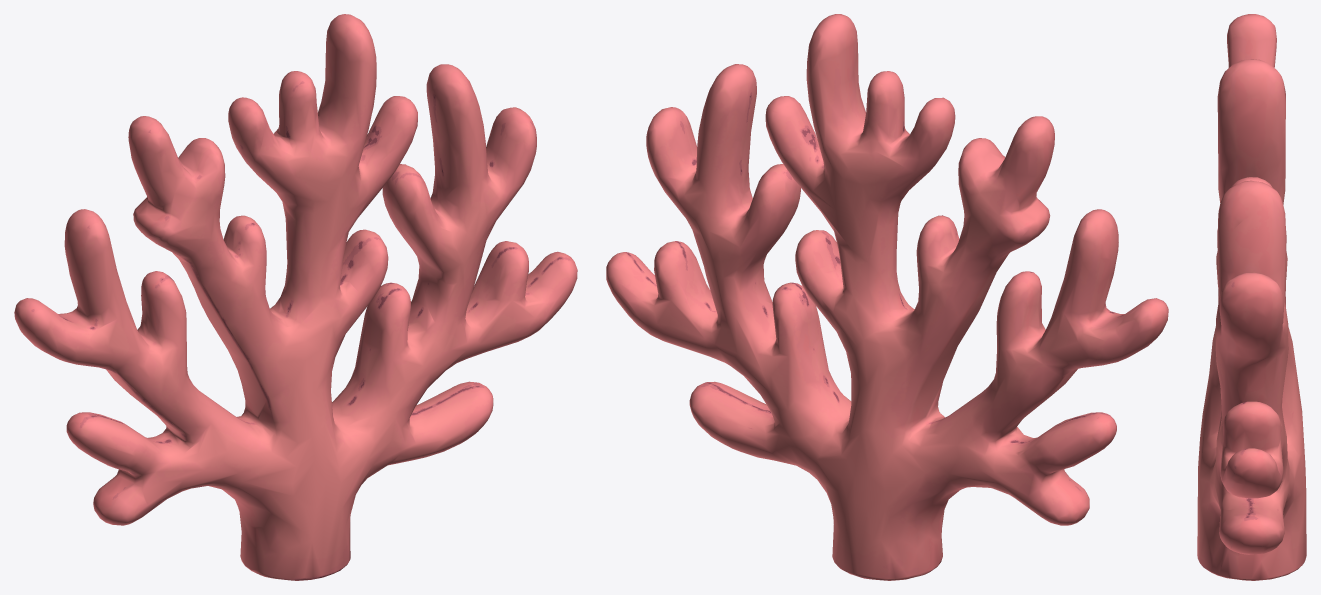
Rendered from coral.glb.
3 renders of one model, left to right at view 1: azimuth 30°, elevation 25°; view 2: azimuth 150°, elevation 25°; view 3: azimuth 270°, elevation 25°, orthographic.
Parts seen in each view (by area): view 1: Mesh_0; view 2: Mesh_0; view 3: Mesh_0.
Part boxes in pixels (x1,y1,x2,y2): Mesh_0: (14, 14, 577, 580); Mesh_0: (606, 14, 1168, 580); Mesh_0: (1197, 14, 1306, 580).
Bounding box in the file's own units: 1.9 × 1.73 × 0.3267.
1 material, 1 textured.
